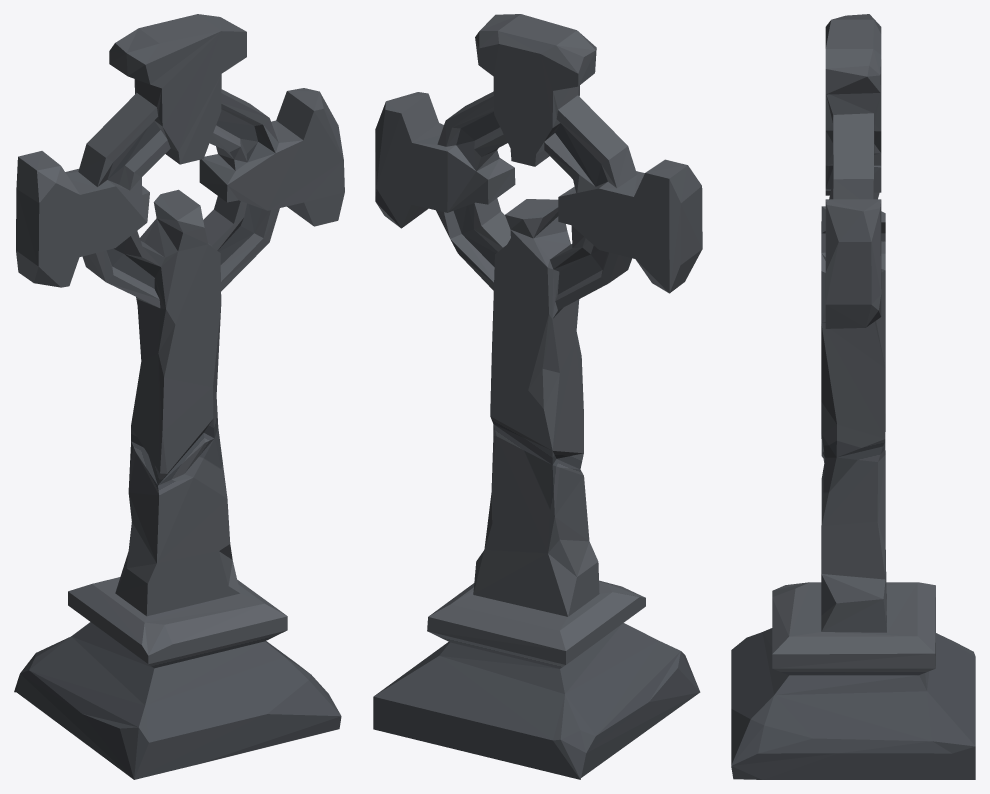
The model's file is SM_Prop_Tombstone_04.fbx.
3 views of the same model, side by side, from view 1: azimuth 30°, elevation 25°; view 2: azimuth 150°, elevation 25°; view 3: azimuth 270°, elevation 25° (orthographic). The views are drawn at different scales.
Visible parts, largest first — view 1: SM_Prop_Tombstone_04; view 2: SM_Prop_Tombstone_04; view 3: SM_Prop_Tombstone_04.
Boxes of the visible parts, box(x1,y1,x2,y2) form: SM_Prop_Tombstone_04: box(14, 14, 344, 779); SM_Prop_Tombstone_04: box(373, 14, 702, 779); SM_Prop_Tombstone_04: box(731, 14, 975, 779).
Bounding box in the file's own units: 75.84 × 161 × 51.54.
1 material, 1 textured.
